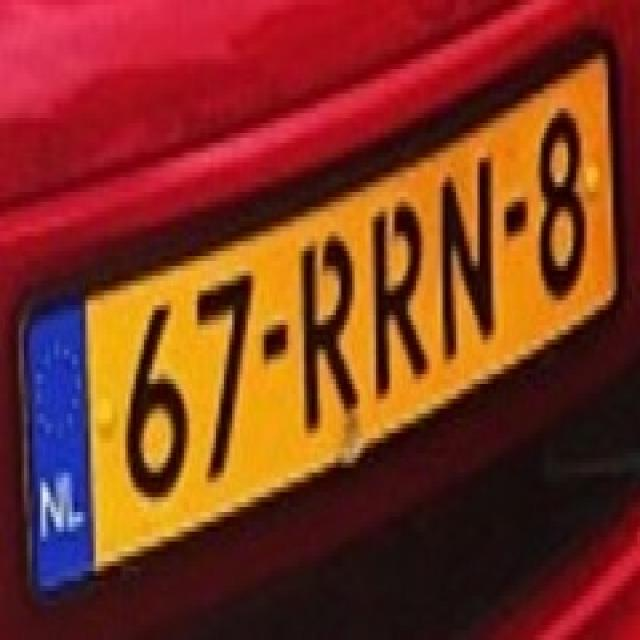LicensePlate: (10, 43, 627, 602)
